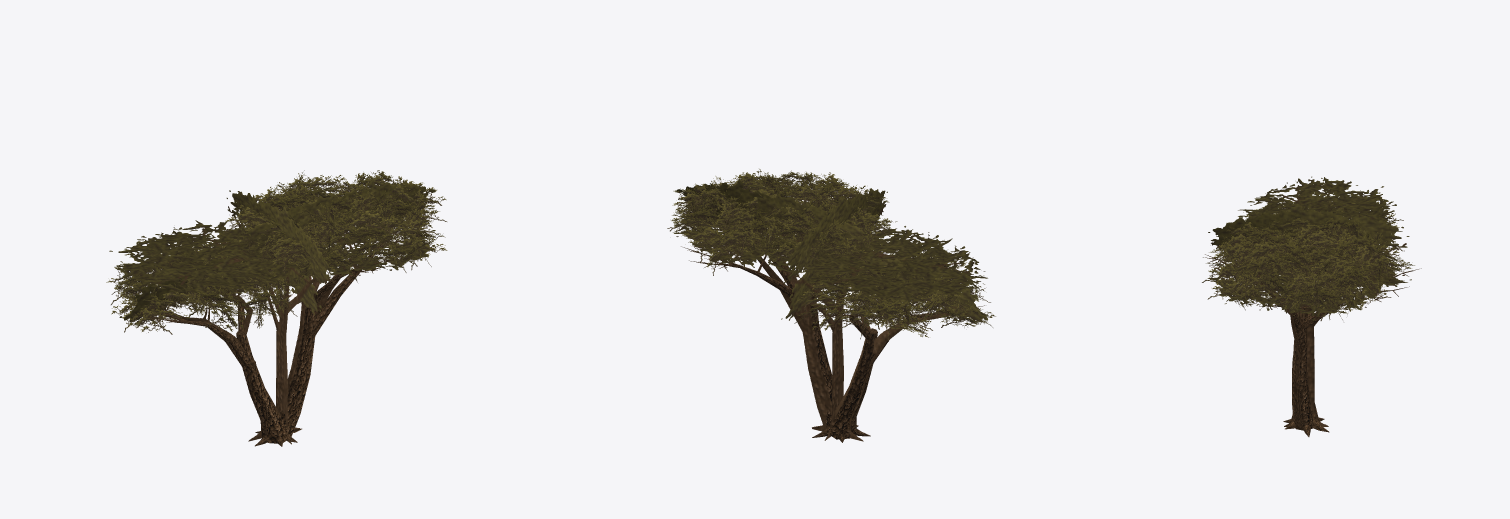
File: Acacia_04_Tronco_Duplo.glb
3 views of the same model, side by side, from view 1: azimuth 30°, elevation 25°; view 2: azimuth 150°, elevation 25°; view 3: azimuth 270°, elevation 25° (orthographic). The views are drawn at different scales.
Parts seen in each view (by area): view 1: Acacia_04_Tronco_Duplo impostor, Folhagem fina, Tronco e raizes, Ramos principais; view 2: Acacia_04_Tronco_Duplo impostor, Folhagem fina, Tronco e raizes, Ramos principais; view 3: Folhagem fina, Acacia_04_Tronco_Duplo impostor, Tronco e raizes, Ramos principais.
Boxes of the visible parts, x1,y1,x2,y2 form: Acacia_04_Tronco_Duplo impostor: [109, 178, 443, 444]; Folhagem fina: [106, 170, 447, 334]; Tronco e raizes: [236, 293, 315, 446]; Ramos principais: [180, 247, 379, 370]; Acacia_04_Tronco_Duplo impostor: [674, 178, 992, 441]; Folhagem fina: [667, 169, 995, 341]; Tronco e raizes: [810, 294, 877, 442]; Ramos principais: [732, 259, 932, 364]; Folhagem fina: [1202, 192, 1414, 321]; Acacia_04_Tronco_Duplo impostor: [1207, 176, 1411, 426]; Tronco e raizes: [1283, 309, 1329, 436]; Ramos principais: [1250, 275, 1362, 351].
Size of what is drawn, in the model's own units: 11.43 by 11.43 by 11.43.
3 materials, 3 textured.
